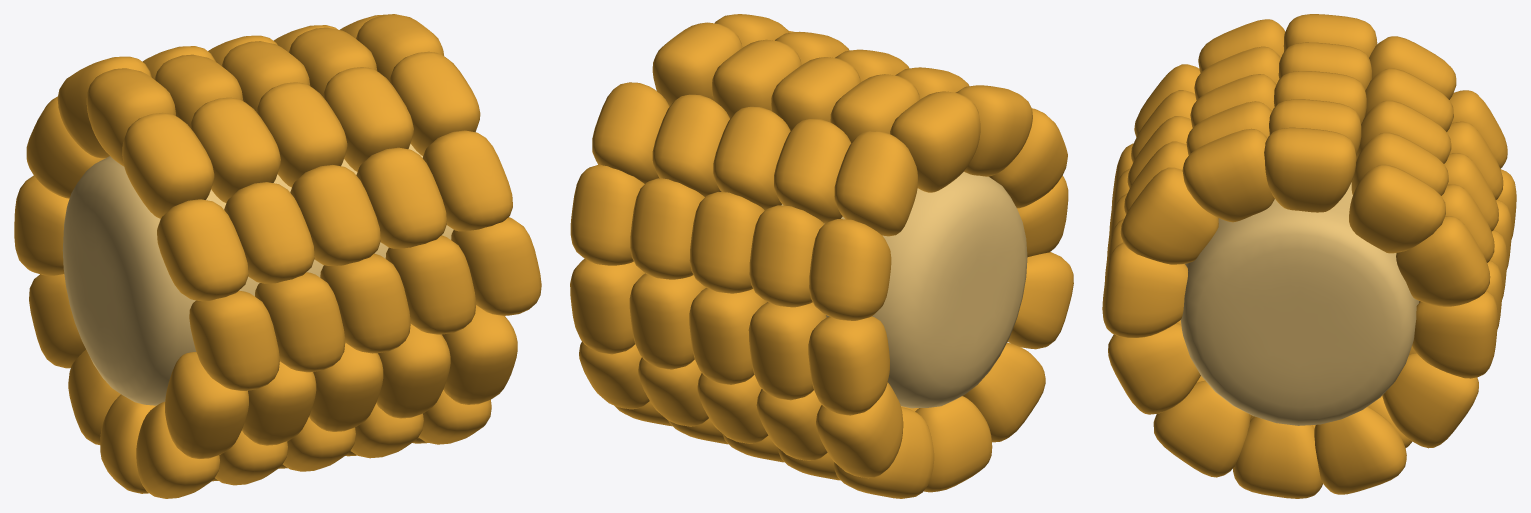
File: corn.fbx
3 renders of one model, left to right at view 1: azimuth 30°, elevation 25°; view 2: azimuth 150°, elevation 25°; view 3: azimuth 270°, elevation 25°, orthographic. The views are drawn at different scales.
Parts seen in each view (by area): view 1: Cube.004, Cube.005, Cube.002, Cube.006, corn, Cube, Cube.007, Cube.013, Cube.011, Cube.012, Cube.010, Cube.008 (+1 smaller); view 2: Cube.012, Cube.013, Cube.011, corn, Cube, Cube.010, Cube.002, Cube.009, Cube.008, Cube.007, Cube.006, Cube.004 (+1 smaller); view 3: corn, Cube.013, Cube, Cube.002, Cube.012, Cube.004, Cube.011, Cube.005, Cube.009, Cube.007, Cube.010, Cube.008 (+1 smaller).
Boxes of the visible parts, bbox=[...] form: Cube.004: bbox=[157, 130, 512, 301]; Cube.005: bbox=[189, 217, 541, 390]; Cube.002: bbox=[122, 51, 480, 218]; Cube.006: bbox=[165, 305, 517, 458]; corn: bbox=[62, 144, 453, 405]; Cube: bbox=[86, 14, 443, 166]; Cube.007: bbox=[136, 390, 491, 498]; Cube.013: bbox=[57, 14, 383, 158]; Cube.011: bbox=[14, 175, 69, 275]; Cube.012: bbox=[26, 96, 105, 198]; Cube.010: bbox=[29, 274, 85, 368]; Cube.008: bbox=[100, 394, 427, 493]; Cube.012: bbox=[570, 164, 891, 320]; Cube.013: bbox=[592, 82, 917, 236]; Cube.011: bbox=[570, 259, 889, 415]; corn: bbox=[781, 172, 1027, 408]; Cube: bbox=[652, 22, 980, 192]; Cube.010: bbox=[579, 341, 903, 478]; Cube.002: bbox=[715, 14, 1032, 176]; Cube.009: bbox=[615, 401, 934, 498]; Cube.008: bbox=[901, 396, 992, 492]; Cube.007: bbox=[963, 342, 1045, 442]; Cube.006: bbox=[1007, 252, 1073, 349]; Cube.004: bbox=[789, 31, 1067, 208]; corn: bbox=[1180, 182, 1419, 425]; Cube.013: bbox=[1349, 36, 1456, 253]; Cube: bbox=[1264, 14, 1377, 212]; Cube.002: bbox=[1182, 19, 1285, 222]; Cube.012: bbox=[1396, 90, 1507, 306]; Cube.004: bbox=[1120, 64, 1218, 264]; Cube.011: bbox=[1412, 169, 1516, 378]; Cube.005: bbox=[1102, 143, 1187, 337]; Cube.009: bbox=[1314, 396, 1412, 494]; Cube.007: bbox=[1153, 376, 1251, 477]; Cube.010: bbox=[1382, 346, 1478, 448]; Cube.008: bbox=[1233, 415, 1322, 498].
Bounding box in the file's own units: 150 × 162 × 168.
